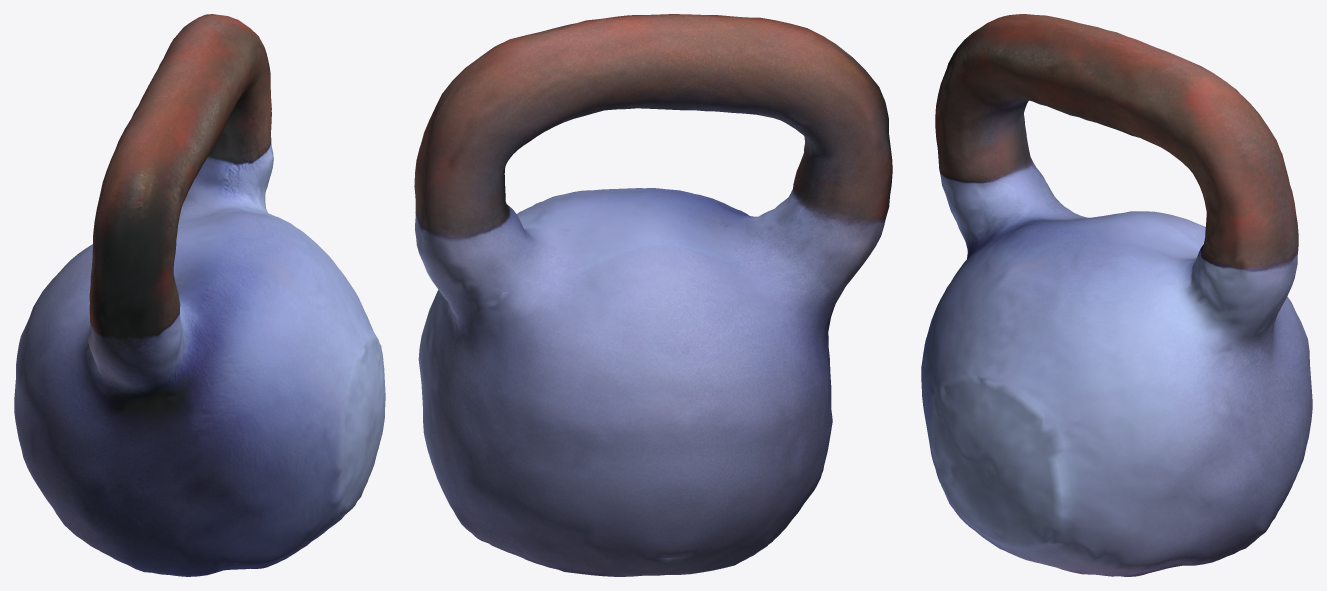
Rendered from Stack 4B - Kettlebell.glb.
3 views of the same model, side by side, from view 1: azimuth 30°, elevation 25°; view 2: azimuth 150°, elevation 25°; view 3: azimuth 270°, elevation 25° (orthographic). The views are drawn at different scales.
Visible parts, largest first — view 1: Stack 4B - Kettlebell · mesh; view 2: Stack 4B - Kettlebell · mesh; view 3: Stack 4B - Kettlebell · mesh.
Boxes of the visible parts, x1,y1,x2,y2 form: Stack 4B - Kettlebell · mesh: [14, 14, 385, 576]; Stack 4B - Kettlebell · mesh: [414, 14, 892, 576]; Stack 4B - Kettlebell · mesh: [921, 14, 1312, 576].
Size of the model in its own units: 0.7412 by 1 by 0.7261.
1 material, 1 textured.
